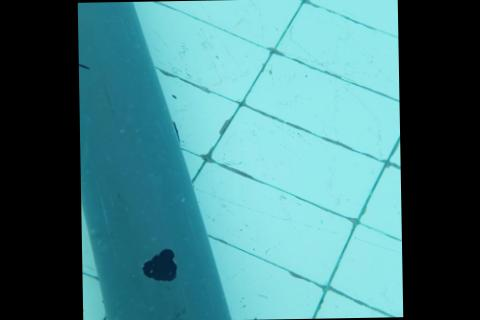kebocoran: (140, 246, 179, 283)
keretakan: (78, 58, 91, 68)
